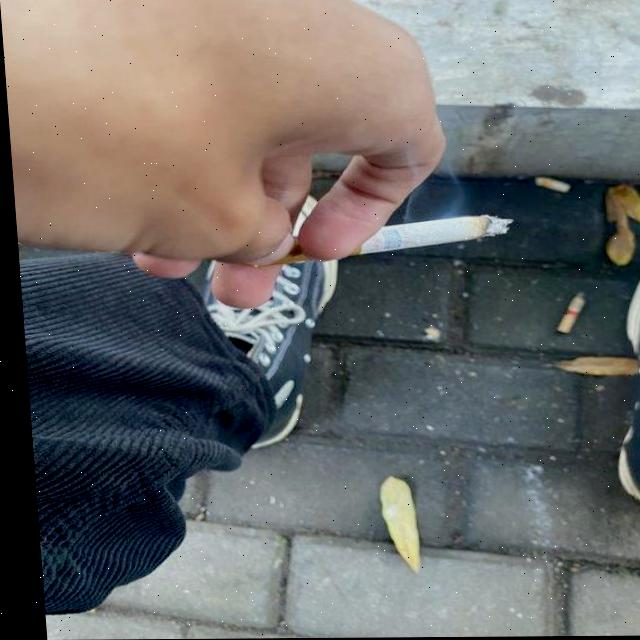cigarette: (246, 215, 511, 269)
